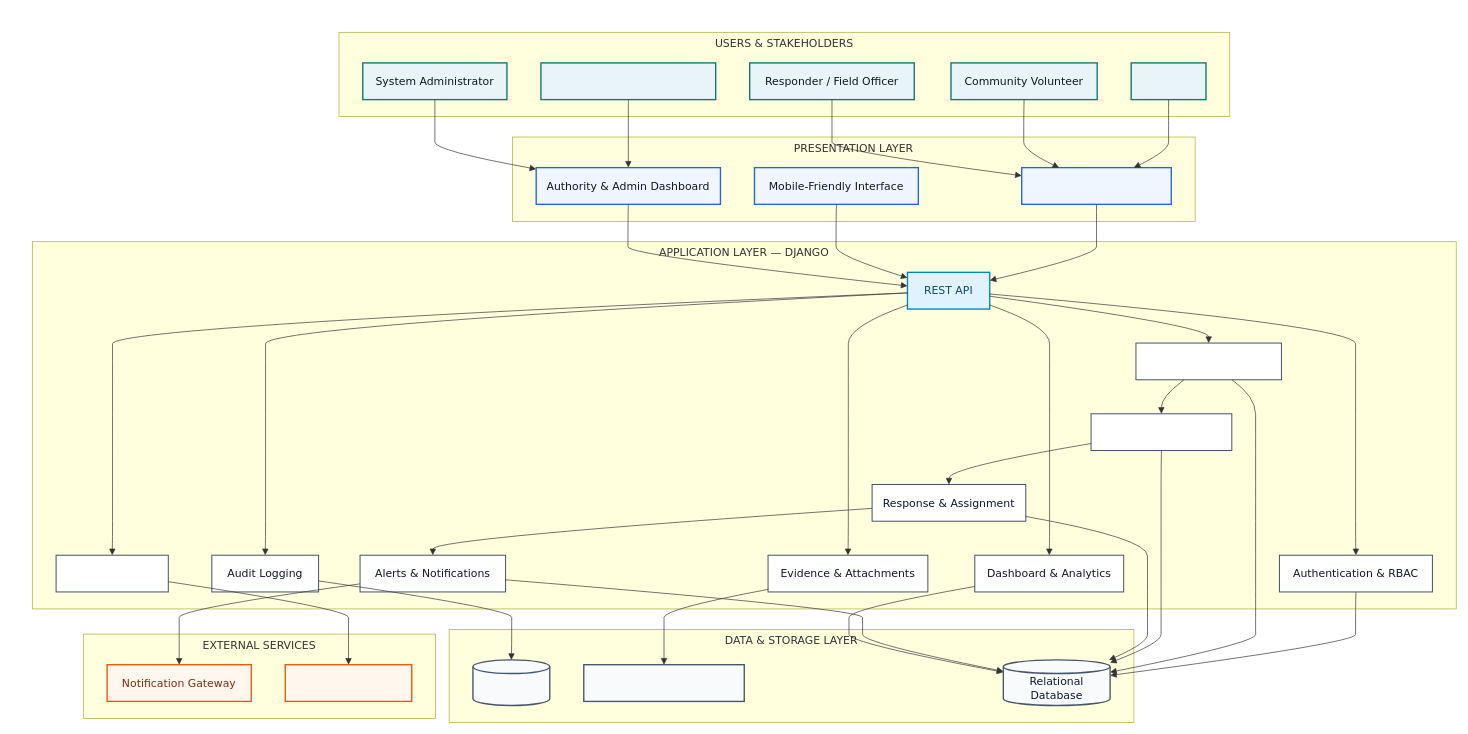
Some shapes in this 1468 by 734 pixel diagram are drawn without their labels. Each missing label, with the centre of its shape:
Audit Records: point (511, 682)
Authority / Disaster Officer: point (628, 81)
Citizen: point (1168, 81)
GIS / Map Service: point (348, 683)
Incident Management: point (1208, 361)
Location & GIS: point (112, 573)
React Web Application: point (1096, 186)
Secure Evidence Storage: point (664, 683)
Verification & Triage: point (1161, 432)
